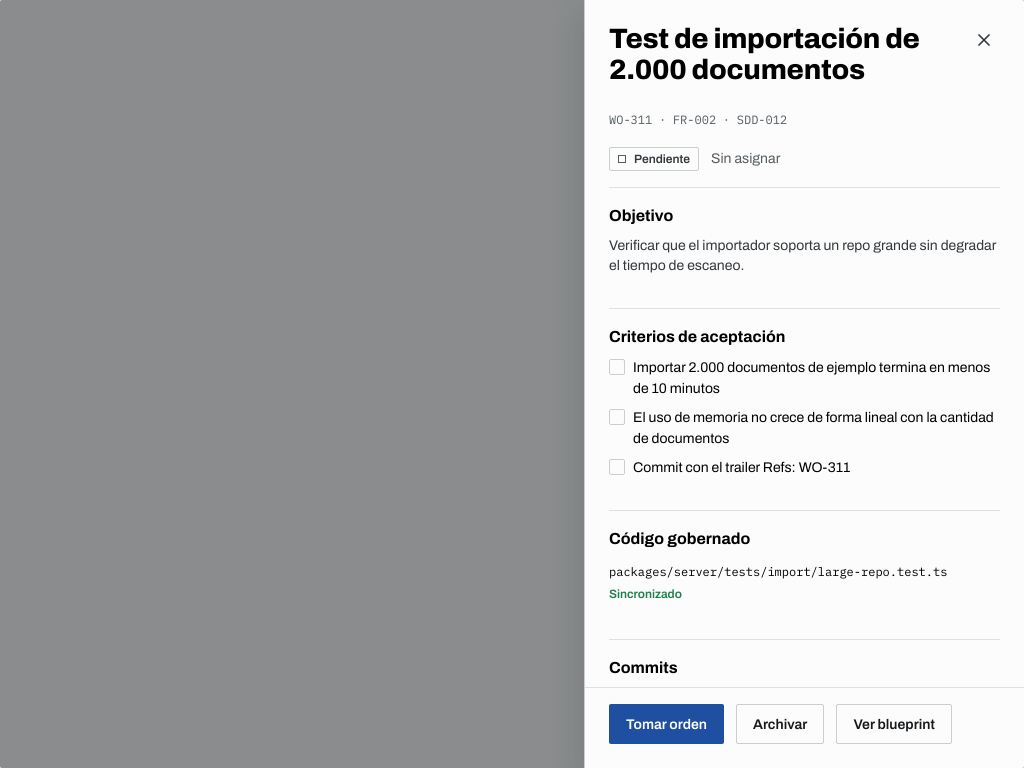
Scenario: OrderDrawer › pending: "Archivar" opens a modal and confirming archives the order with the typed reason
Click the button "Archivar".
click(780, 724)  # box [736,704,824,744]
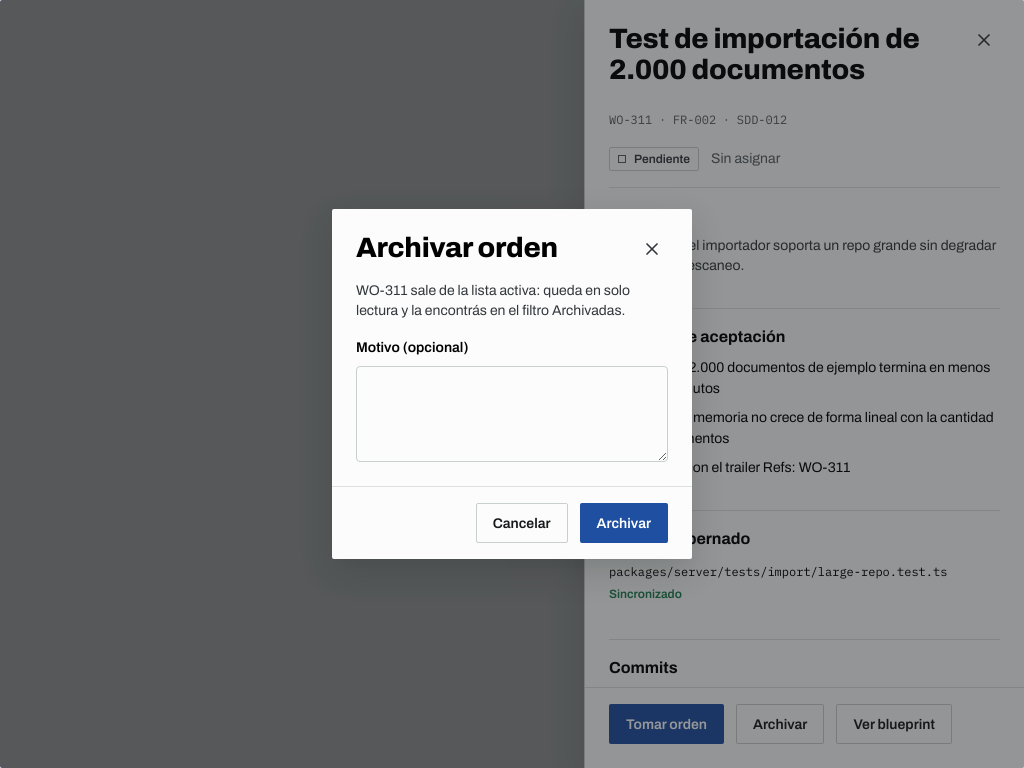
Expected: the text "WO-311 sale de la lista activa: queda en solo lectura y la encontrás en el filtro Archivadas." is shown, [356,283,630,318]
Type "Duplica a WO-106" into the text box labelled "Motivo (opcional)".
click(512, 414); type("Duplica a WO-106")  # box [356,366,668,462]
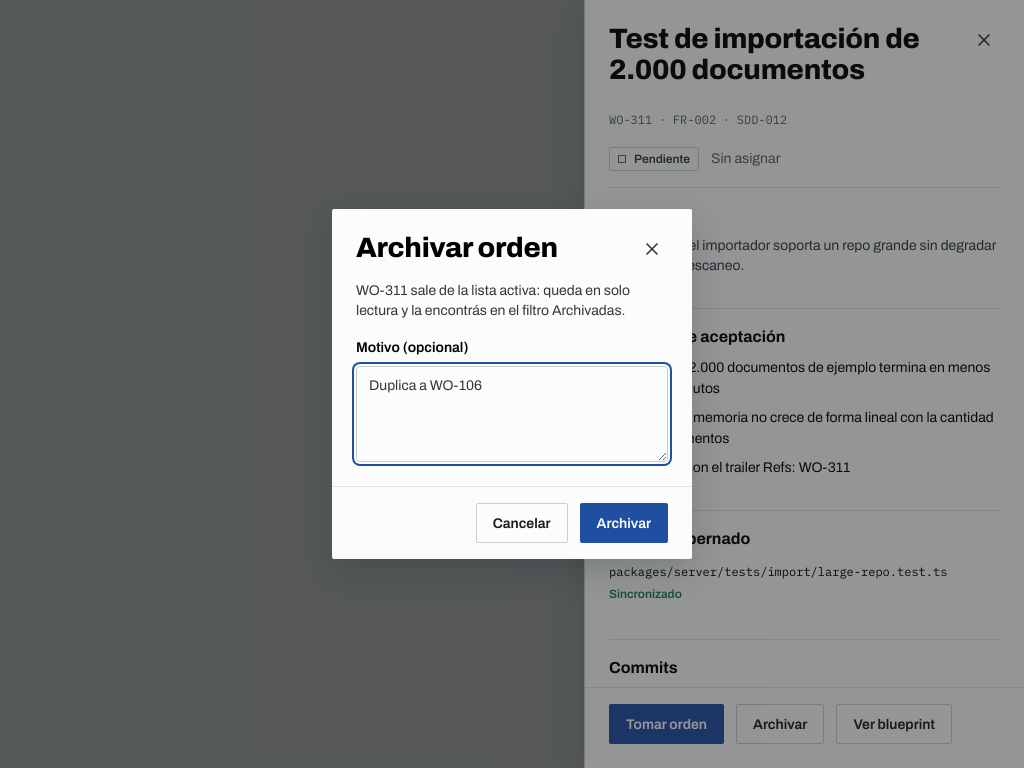
Click the button "Archivar".
click(624, 523)  # box [580,503,668,543]
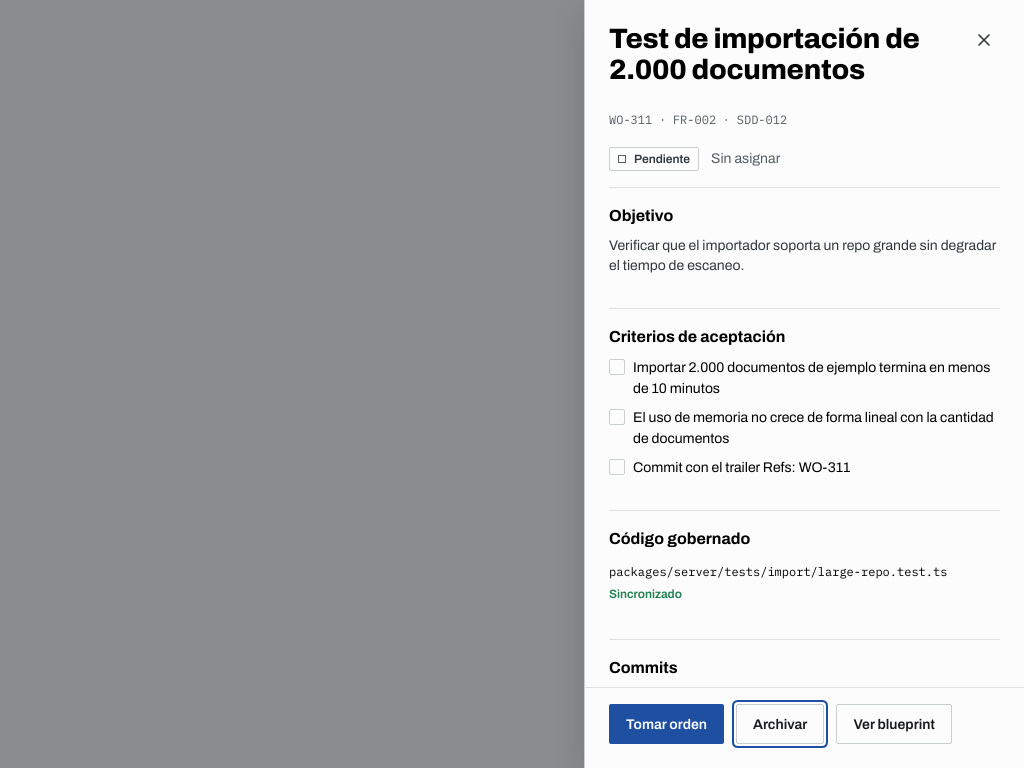
Expected: the message reads "Orden archivada", [878,712,984,728]
